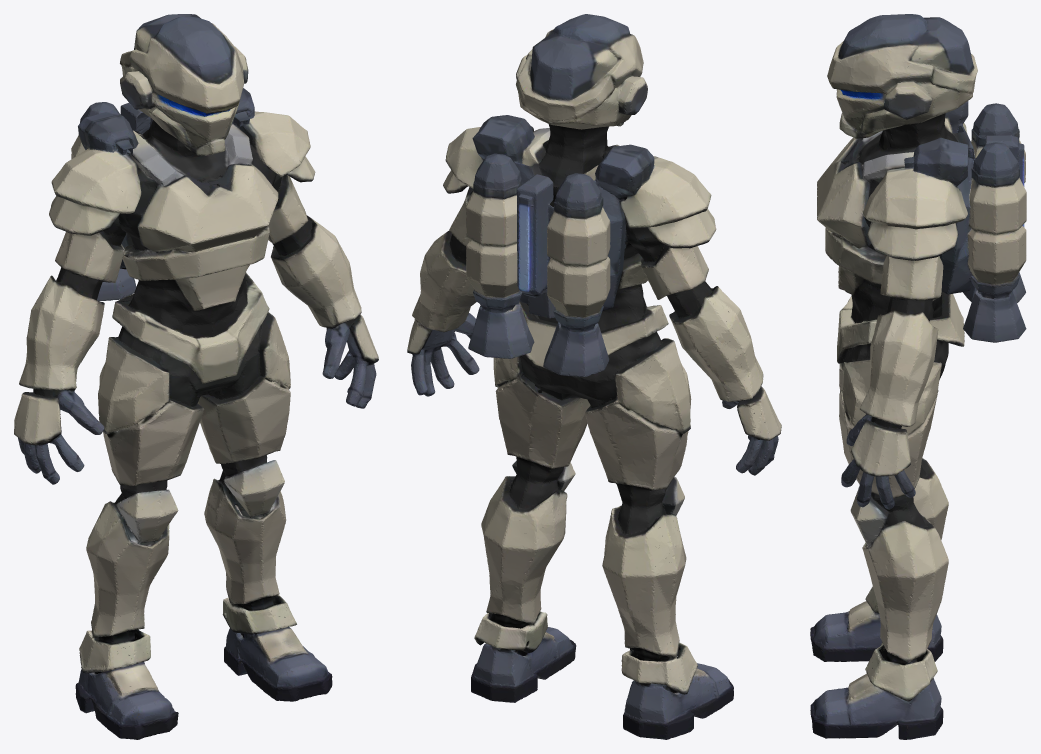
The model's file is engineer-r2-s401.glb.
3 renders of one model, left to right at view 1: azimuth 30°, elevation 25°; view 2: azimuth 150°, elevation 25°; view 3: azimuth 270°, elevation 25°, orthographic. The views are drawn at different scales.
Parts seen in each view (by area): view 1: geometry_0; view 2: geometry_0; view 3: geometry_0.
Boxes of the visible parts, <box> form: geometry_0: <box>14,14,378,739</box>; geometry_0: <box>407,14,781,739</box>; geometry_0: <box>810,14,1026,739</box>.
Size of the model in its own units: 0.2788 by 0.5002 by 0.1464.
1 material, 1 textured.
